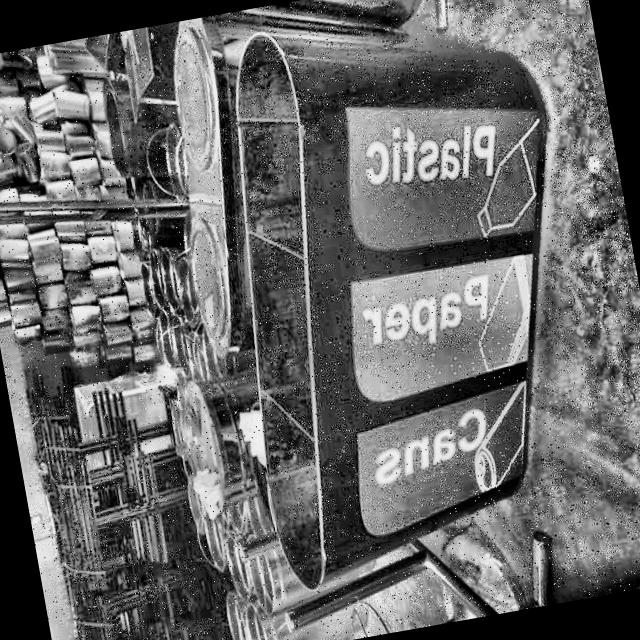Dustbin: (178, 0, 624, 622)
